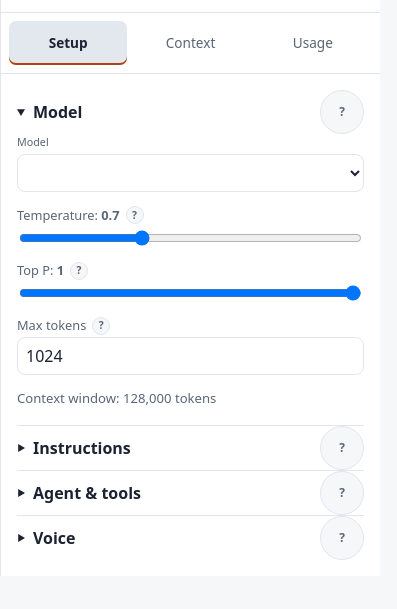
Test: ConversationInspector › keeps checked selections paused behind a keyboard-accessible master without touching memory or consent
This screenshot has width=397, height=609.
Click the button "Agent & tools": click(87, 493) [17, 471, 313, 515]
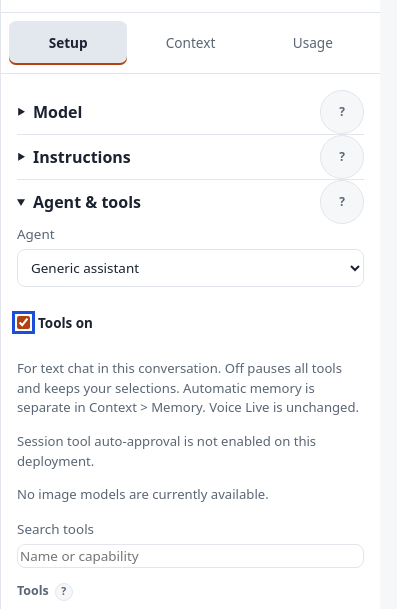
Check: the switch named "Conversation tools" is enabled, box [17, 316, 30, 329]
Type keys " "
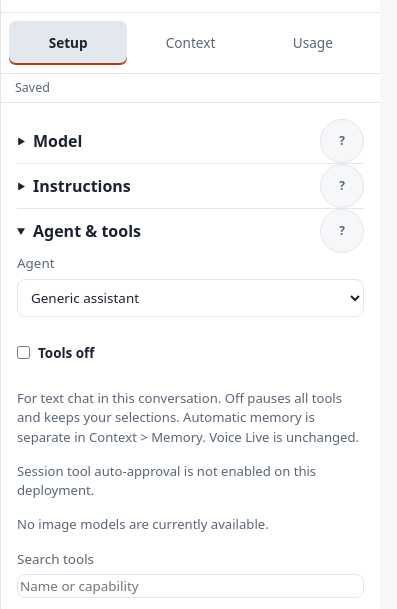
Check: the switch named "Conversation tools" is enabled
Check: the switch named "Conversation tools" is not checked
Click the switch named "Conversation tools": click(24, 353) [17, 346, 30, 359]
(page scrolled)
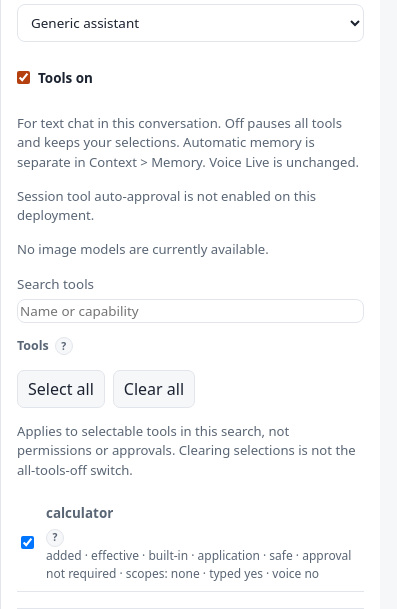
Check: the checkbox labelled "calculator" is checked, box [21, 536, 34, 549]
Check: the checkbox labelled "calculator" is enabled, box [21, 536, 34, 549]
